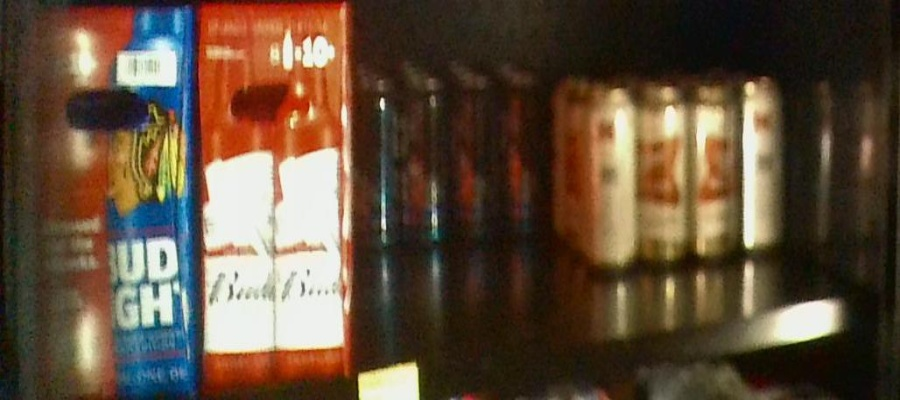bottle: (1, 2, 201, 395), (197, 7, 352, 380), (357, 80, 454, 254), (690, 82, 783, 261), (593, 88, 684, 261), (455, 80, 542, 242)
